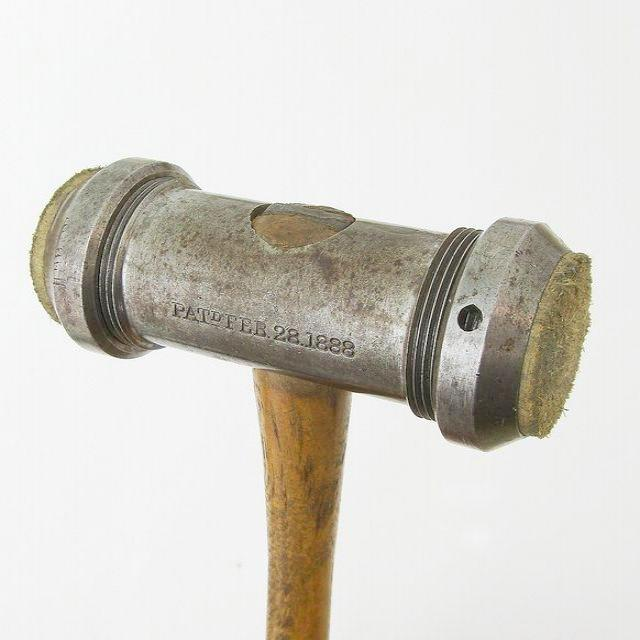hammer: (24, 148, 598, 640)
